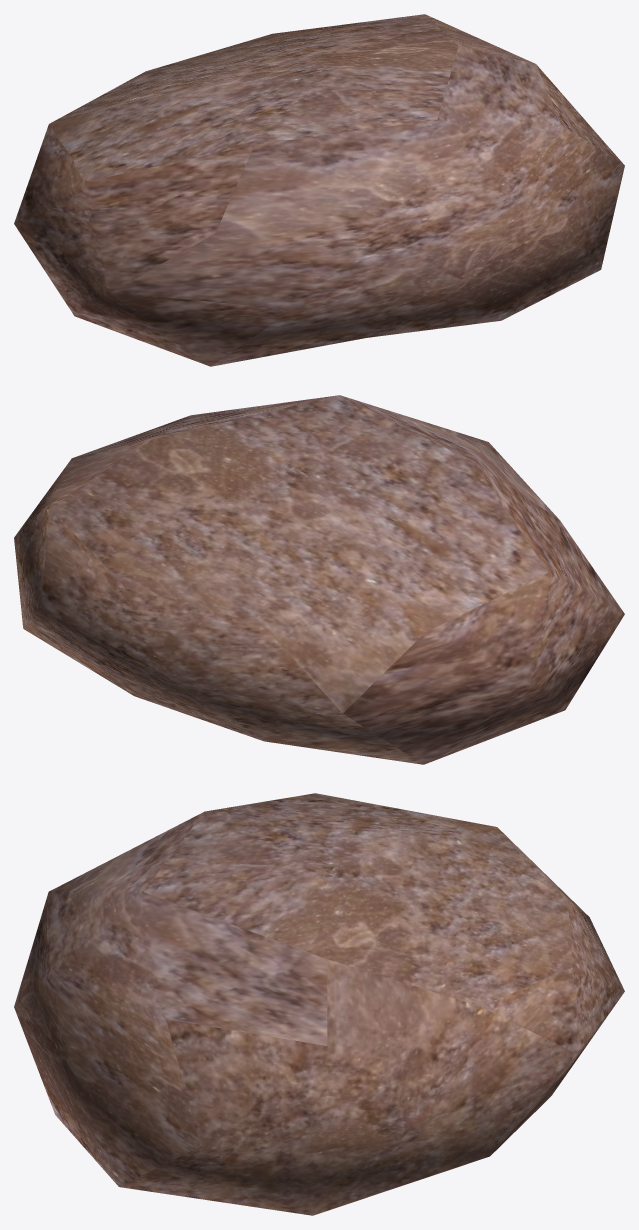
The model's file is RockSet.dae.
The picture shows the model from 3 angles, top to bottom: view 1: azimuth 30°, elevation 25°; view 2: azimuth 150°, elevation 25°; view 3: azimuth 270°, elevation 25°; orthographic projection. The views are drawn at different scales.
Parts seen in each view (by area): view 1: Icosphere_001; view 2: Icosphere_001; view 3: Icosphere_001.
Boxes of the visible parts, left/top/right/bottom form: Icosphere_001: left=14, top=14, right=624, bottom=366; Icosphere_001: left=14, top=395, right=624, bottom=764; Icosphere_001: left=14, top=793, right=624, bottom=1215.
Bounding box in the file's own units: 0.381 × 0.3373 × 0.1531.
